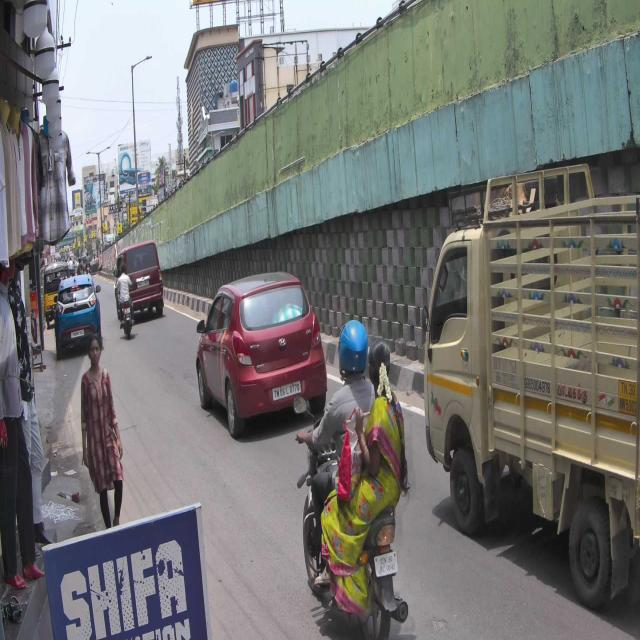double_rider: (294, 317, 411, 637)
